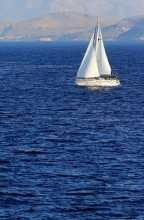fanchuan: (75, 17, 127, 88)
